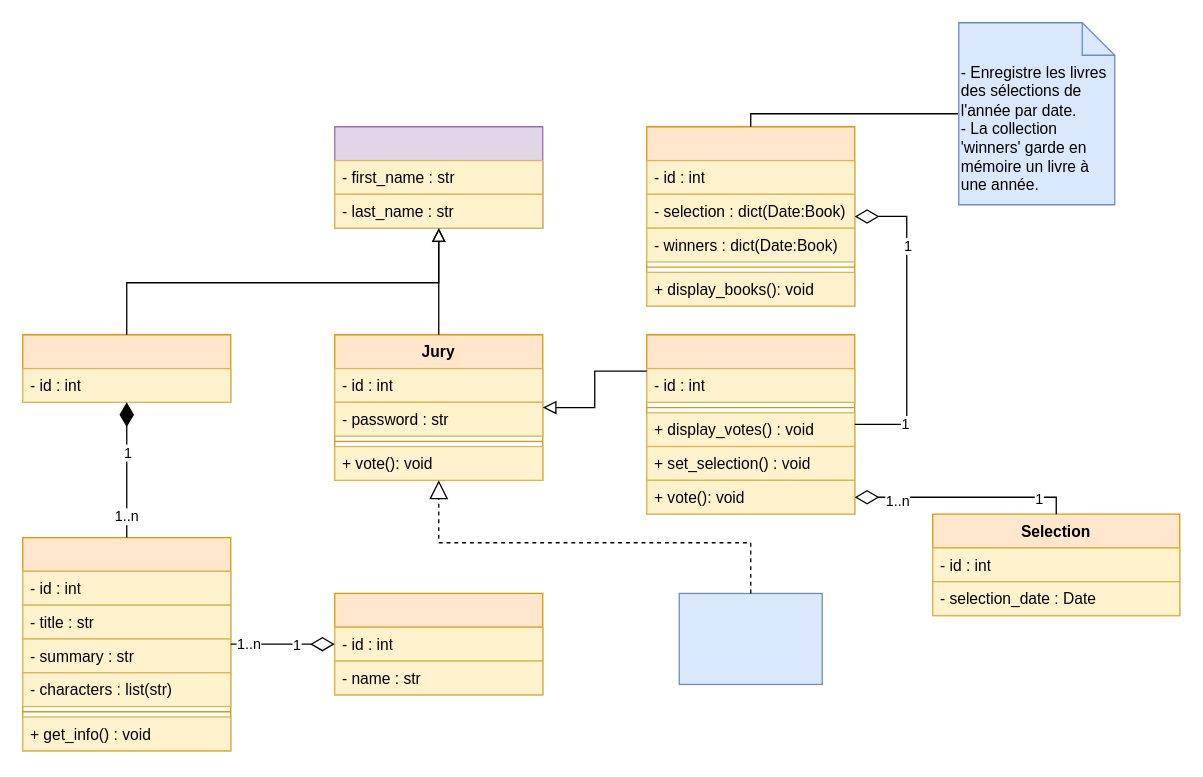
The diagram is 1203 pixels wide and 777 high, and some of its shapes have lost their labels. The box of each missing label's shape, as (x1, y1, x2, y2) in pixels:
<<Interface>> Voter + vote(): void: (678, 592, 822, 684)
Author: (21, 333, 231, 402)
Book: (21, 536, 231, 751)
Person: (333, 125, 543, 228)
President: (645, 333, 855, 514)
Publisher: (333, 592, 543, 695)
System: (645, 125, 855, 306)
